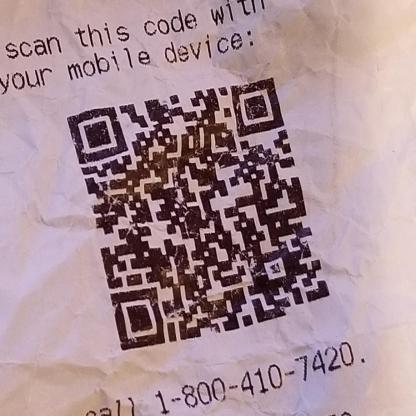qr: (60, 76, 339, 352)
